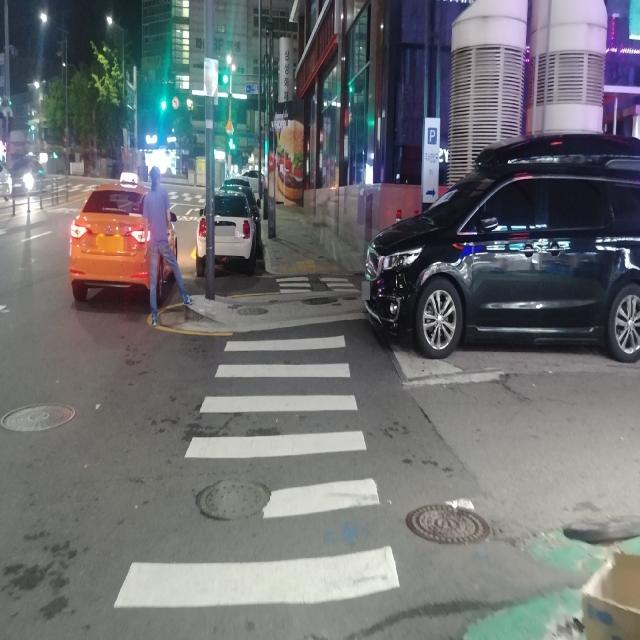횡단보도: (113, 332, 402, 610)
